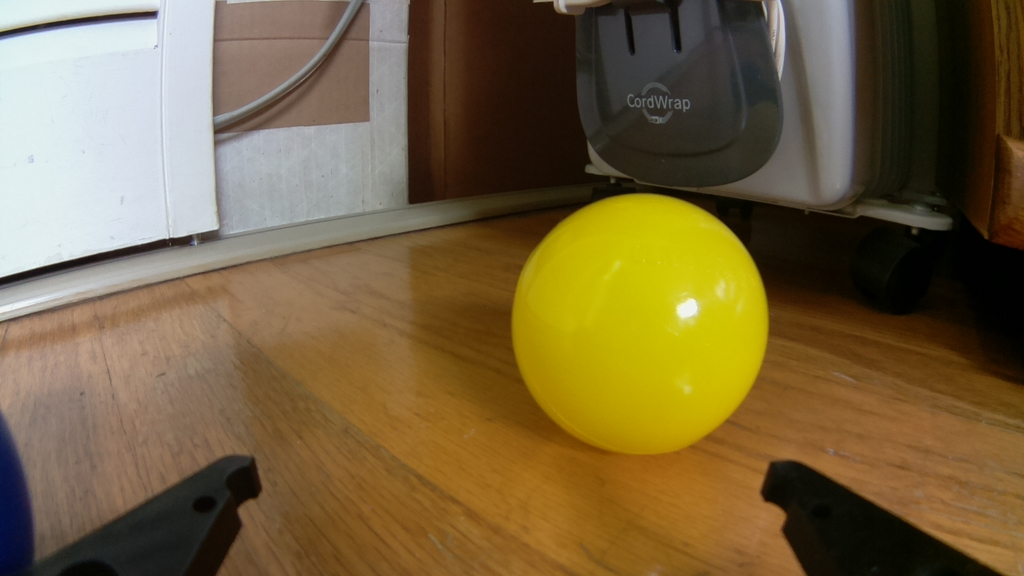ball: (507, 190, 773, 460)
